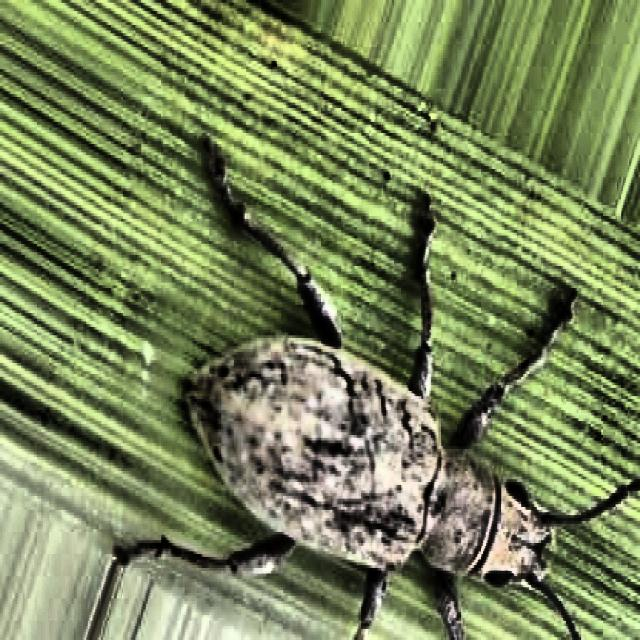Stink bug: (178, 149, 612, 640)
